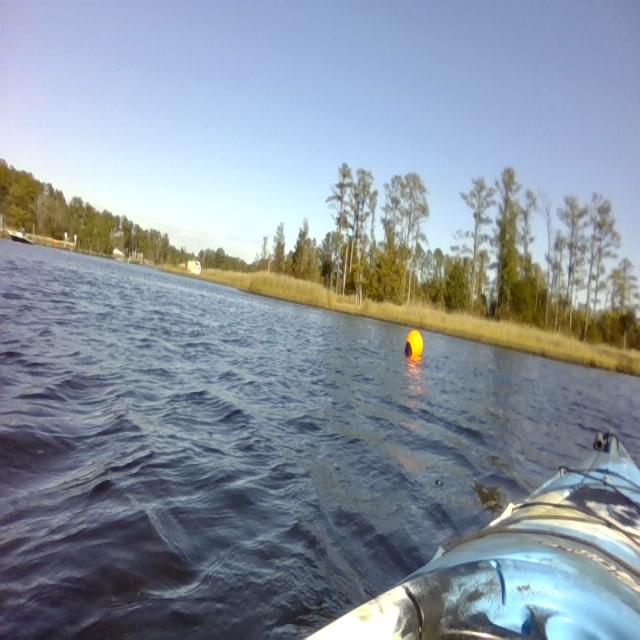Buoy: (396, 324, 434, 376)
